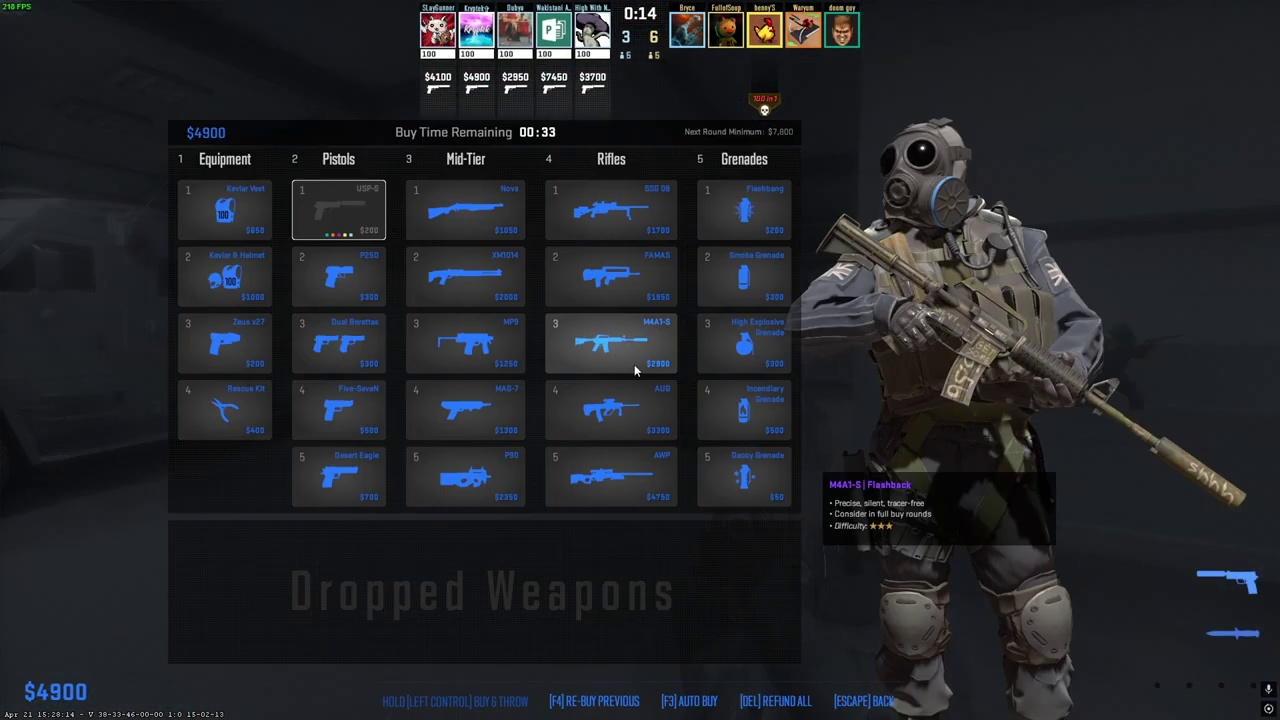CT: (849, 122, 1092, 720)
